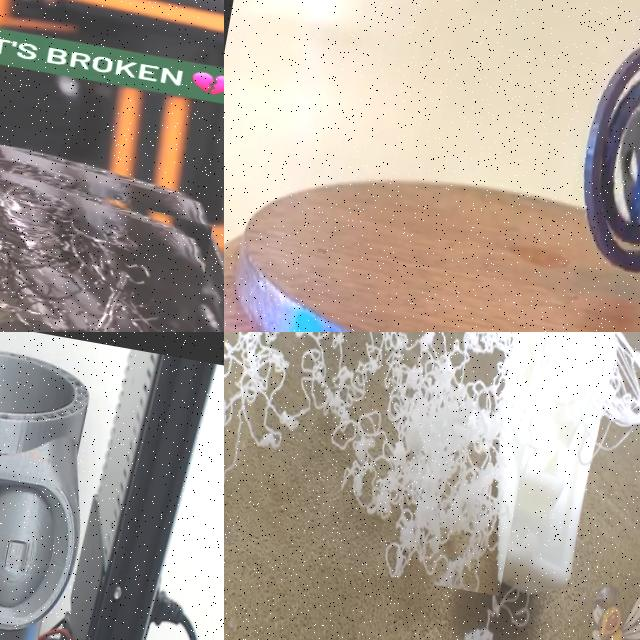spaghetti: (224, 332, 514, 595), (0, 112, 218, 332), (598, 332, 640, 452)
